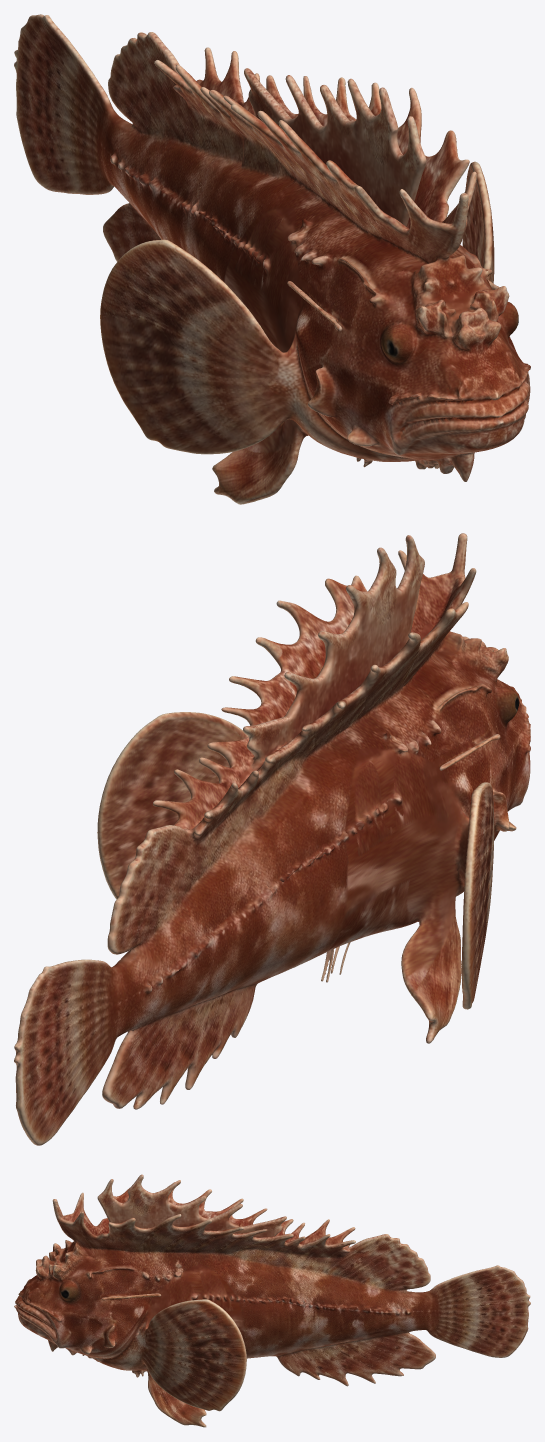
Rendered from haokoze.glb.
The picture shows the model from 3 angles, top to bottom: view 1: azimuth 30°, elevation 25°; view 2: azimuth 150°, elevation 25°; view 3: azimuth 270°, elevation 25°; orthographic projection. The views are drawn at different scales.
Size of the model in its own units: 0.8376 by 0.9144 by 1.9.
Materials: 1 (1 with a texture image).
